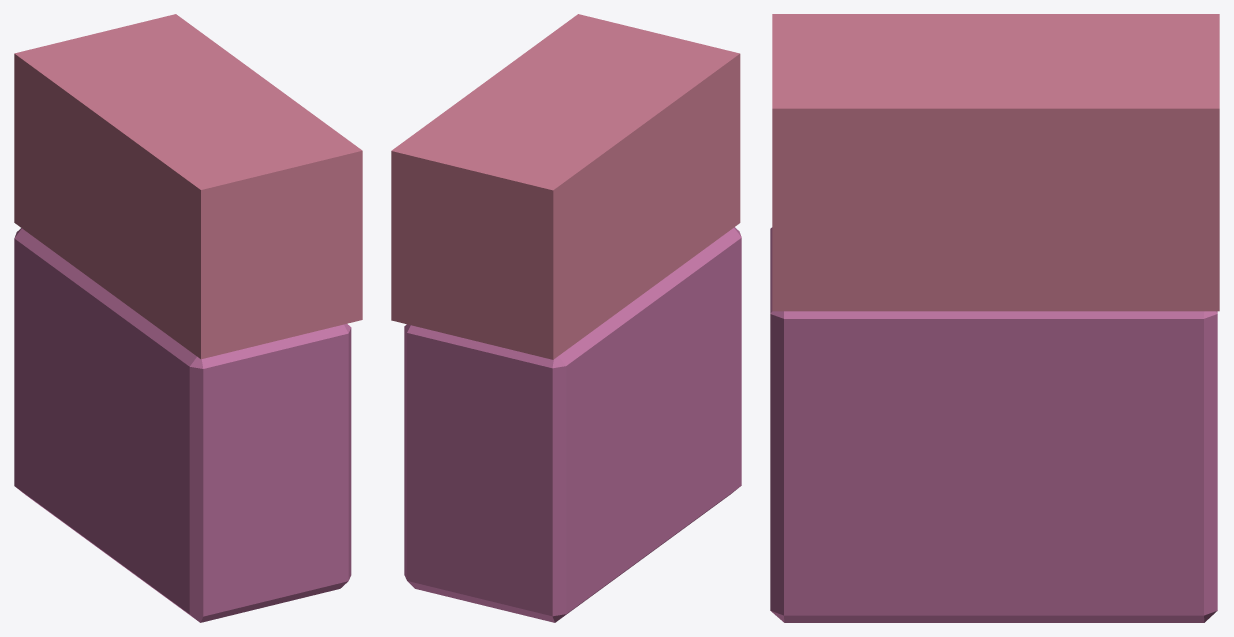
The model's file is killer queen.obj.
The picture shows the model from 3 angles, left to right: view 1: azimuth 30°, elevation 25°; view 2: azimuth 150°, elevation 25°; view 3: azimuth 270°, elevation 25°; orthographic projection. The views are drawn at different scales.
Parts seen in each view (by area): view 1: Dummy1, Head1; view 2: Dummy1, Head1; view 3: Dummy1, Head1.
Part boxes in pixels (left/top/right/bottom): Dummy1: left=14, top=228, right=351, bottom=622; Head1: left=14, top=14, right=362, bottom=359; Dummy1: left=404, top=227, right=741, bottom=622; Head1: left=391, top=14, right=740, bottom=359; Dummy1: left=770, top=227, right=1217, bottom=622; Head1: left=772, top=14, right=1219, bottom=311.
Bounding box in the file's own units: 1.04 × 2.59 × 2.01.
